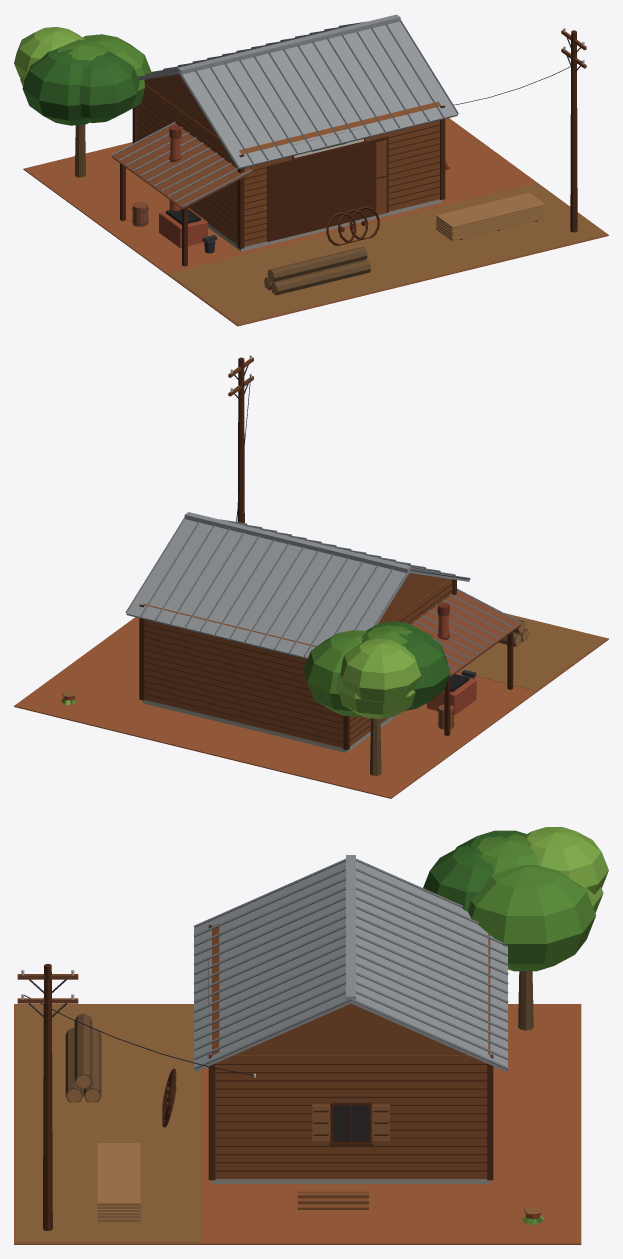
File: factory_1.glb
3 renders of one model, top to bottom at view 1: azimuth 30°, elevation 25°; view 2: azimuth 150°, elevation 25°; view 3: azimuth 270°, elevation 25°, orthographic. The views are drawn at different scales.
Visible parts, largest first — view 1: body; view 2: body; view 3: body, windows.
Part boxes in pixels (x1,y1,x2,y2): body: (14, 14, 608, 326); body: (14, 355, 608, 798); body: (14, 827, 608, 1244); windows: (333, 1105, 368, 1140).
Size of the model in its own units: 16.82 by 8.52 by 16.68.
